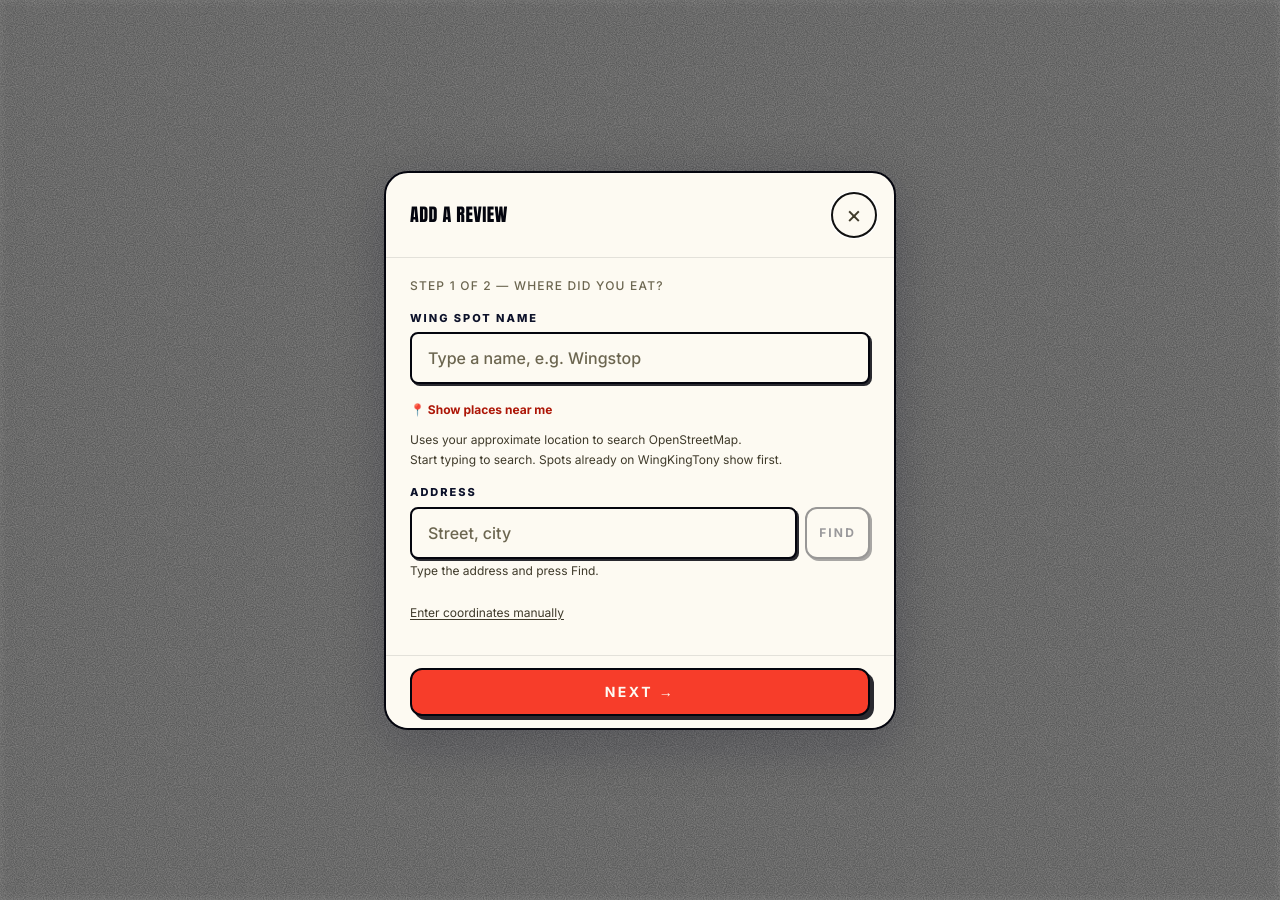
Scenario: ReviewFormModal — step 1 location › does not claim "Location set" for impossible coordinates and explains the range
This screenshot has width=1280, height=900.
Type "X" into the dropdown labelled "Wing spot name" at point(640, 358), box [410,332,870,384]
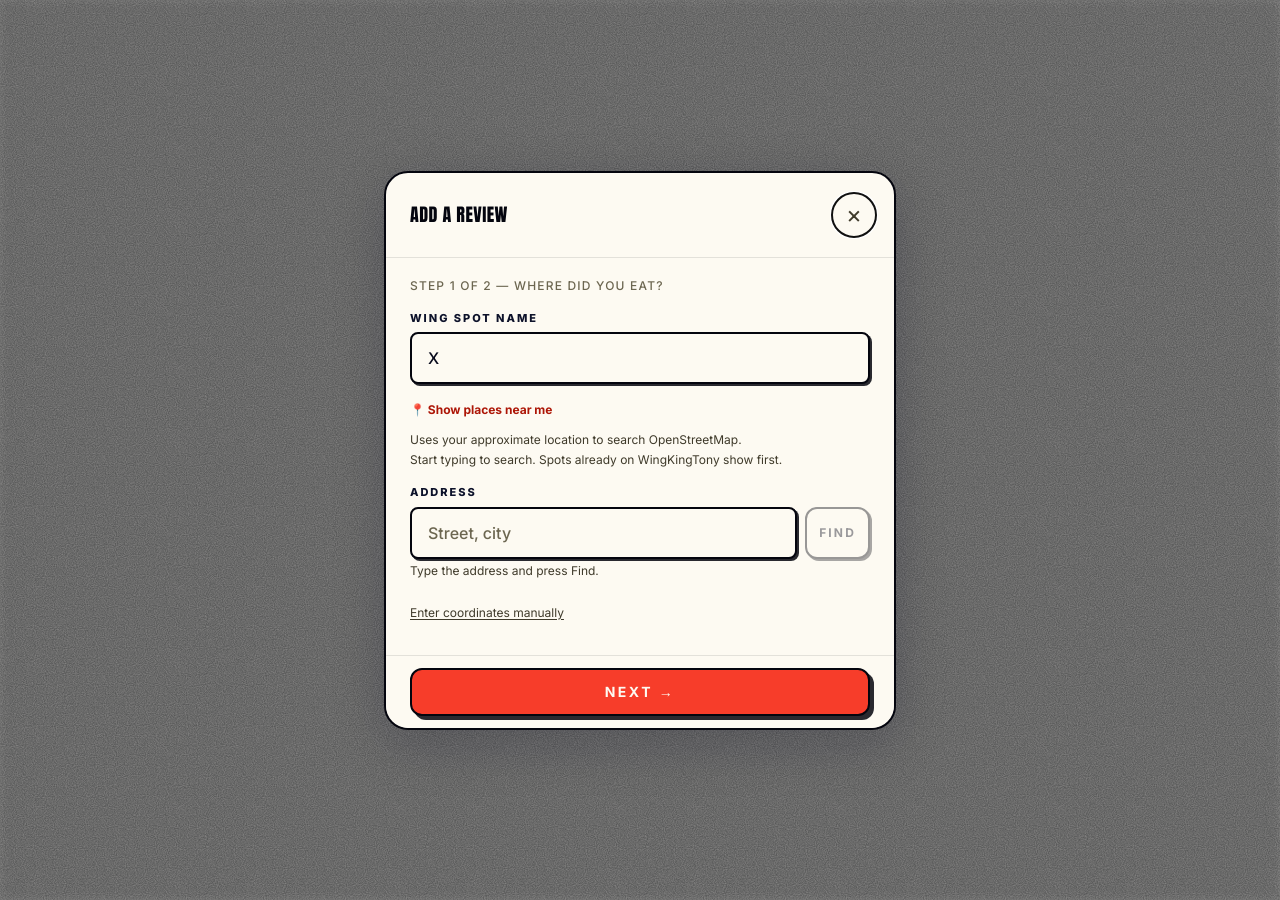
Type "Somewhere" into the field labelled "Address" at point(604, 532), box [410,506,797,558]
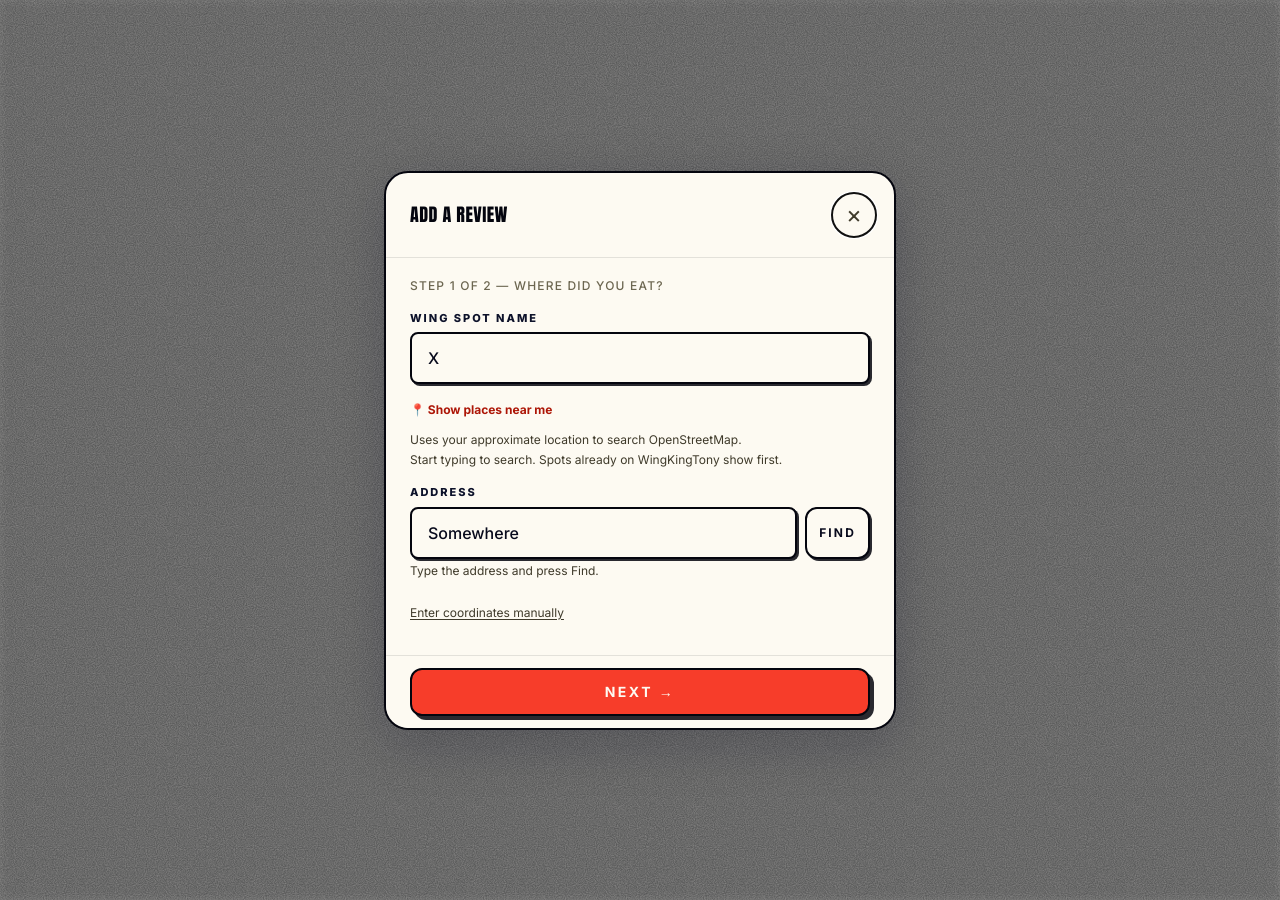
Click the button "Enter coordinates manually" at point(487, 612), box [410,590,564,634]
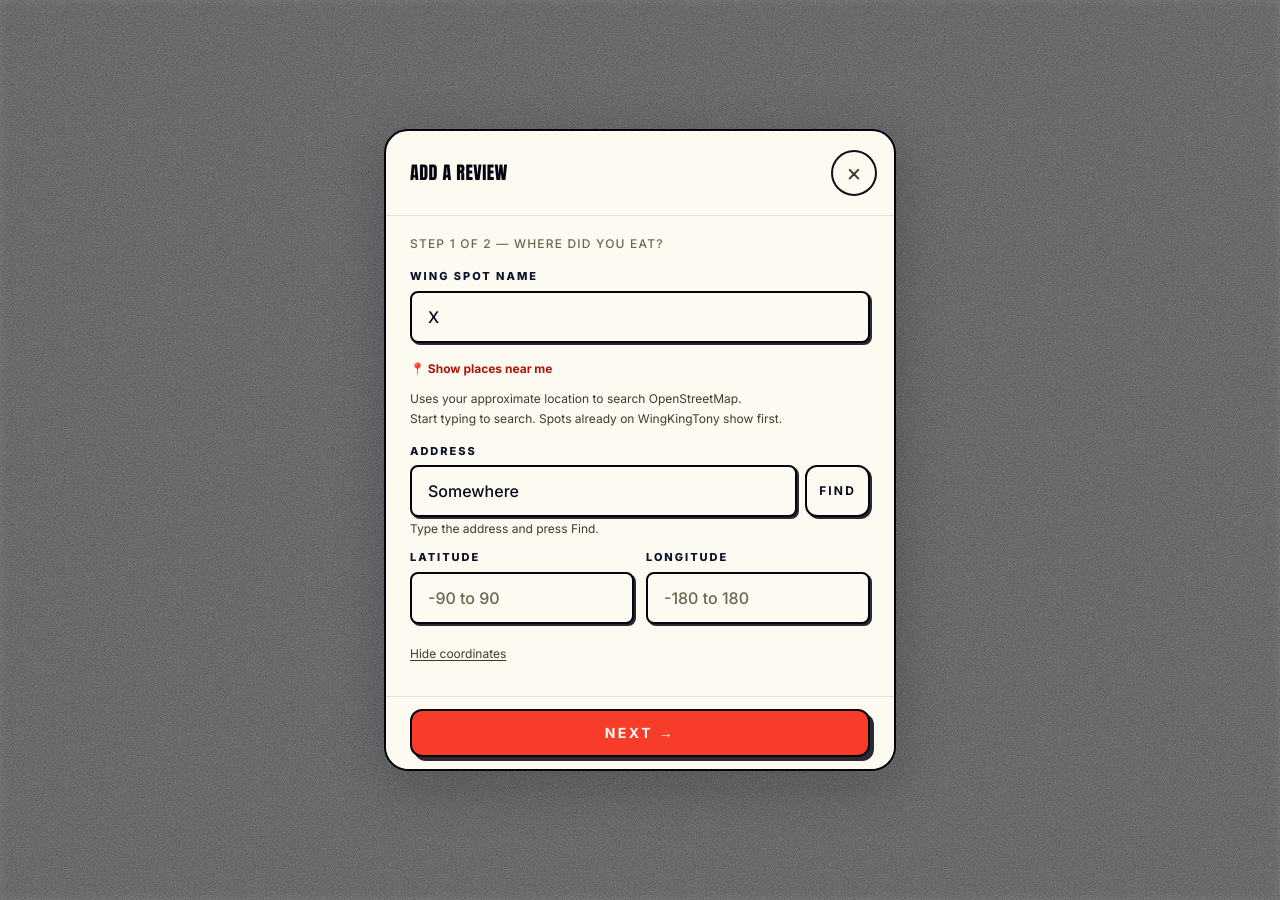
Type "99999" into the field labelled "Latitude" at point(522, 598), box [410,572,634,624]
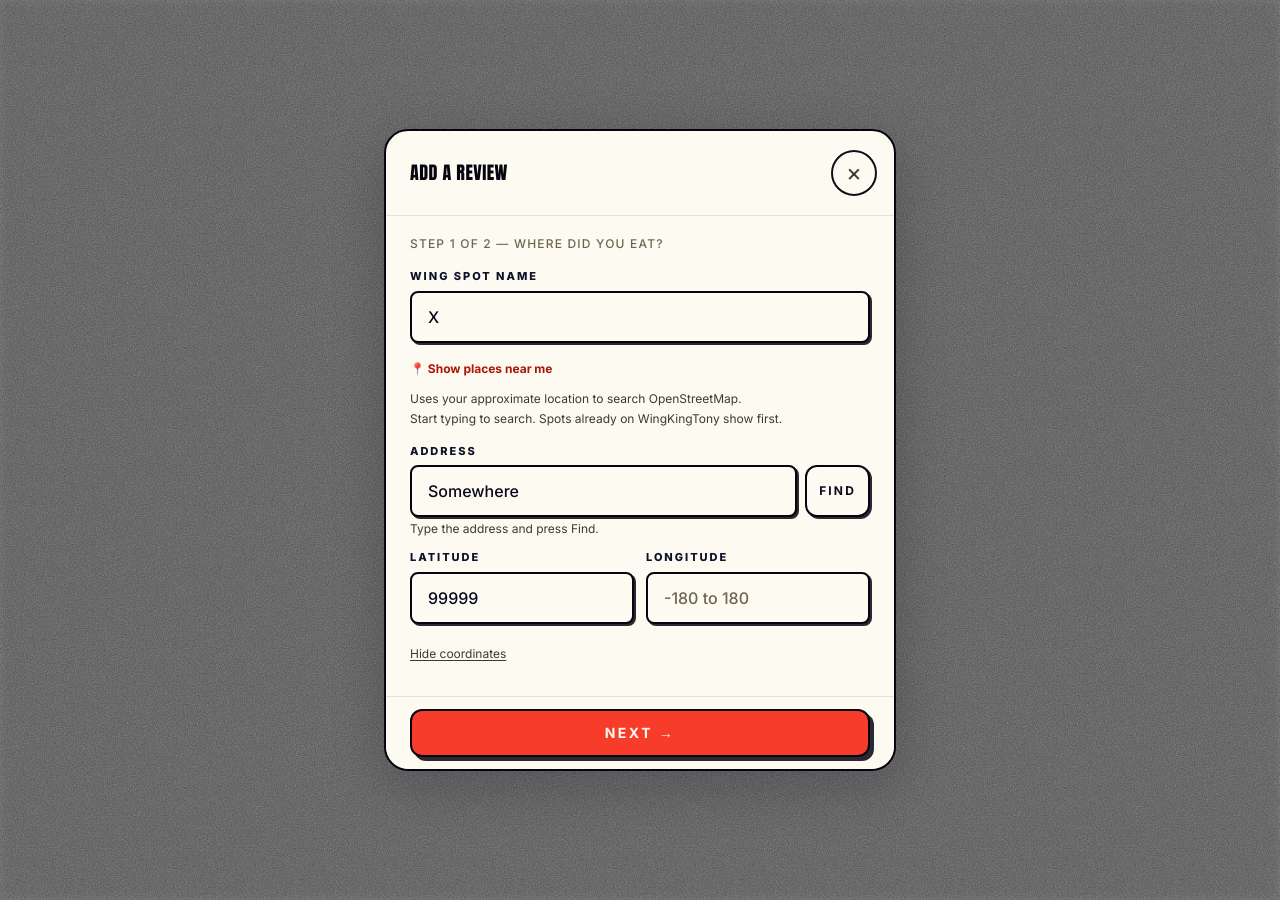
Type "-99999" into the field labelled "Longitude" at point(758, 598), box [646,572,870,624]
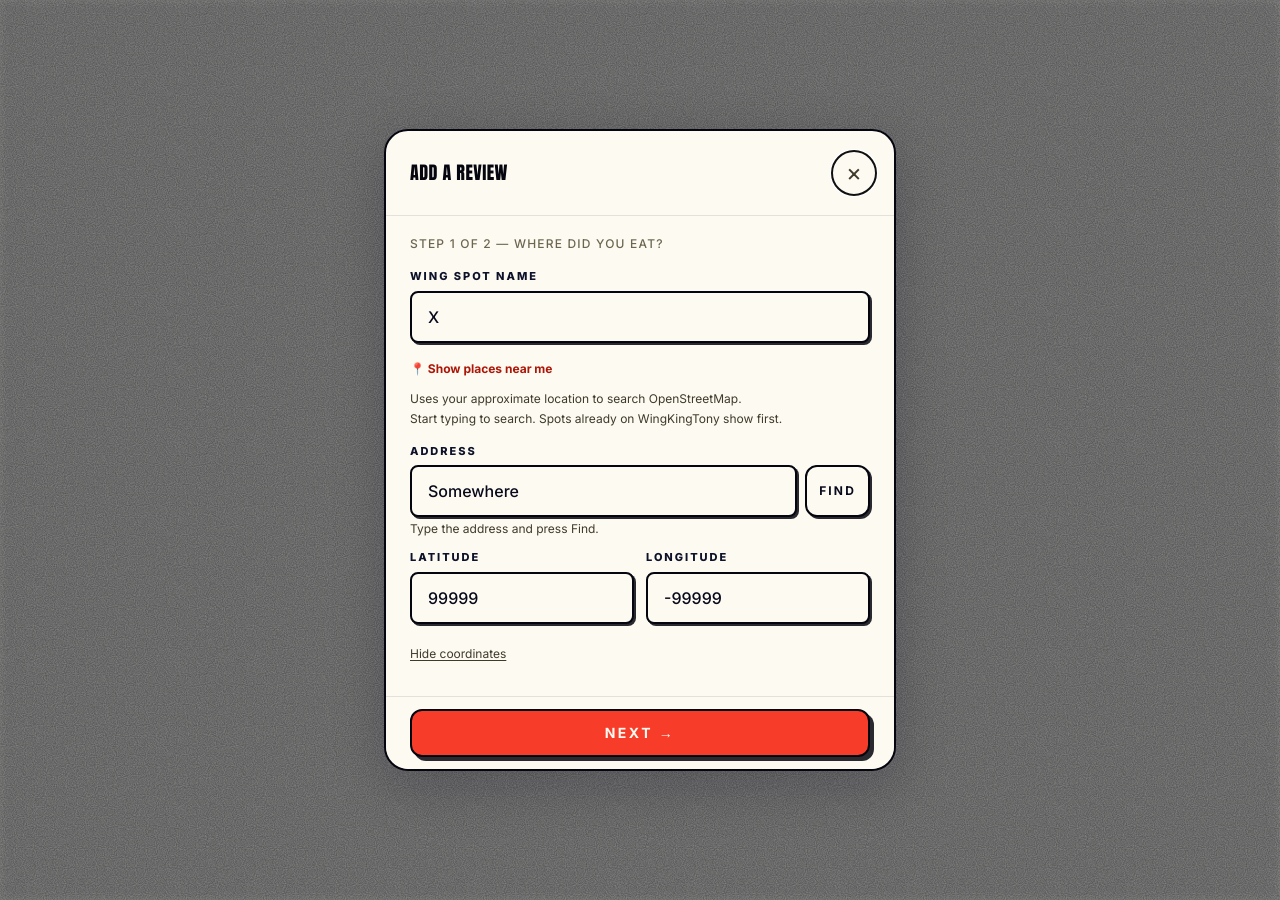
Click the button "Next →" at point(640, 733), box [410,709,870,757]
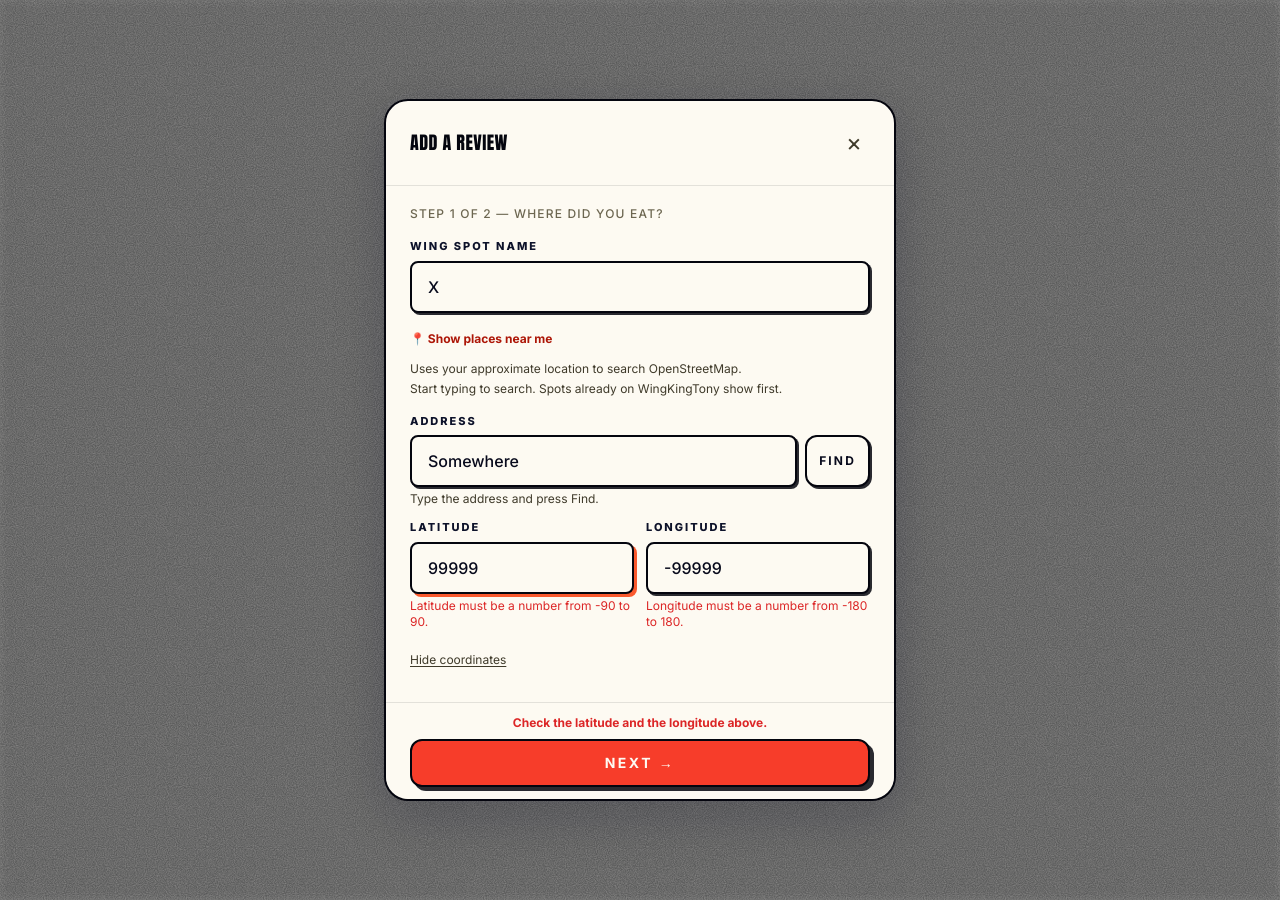
Check: the text "Latitude must be a number from -90 to 90." is shown, box [410,598,634,630]
Check: the text "Longitude must be a number from -180 to 180." is shown, box [646,598,870,630]
